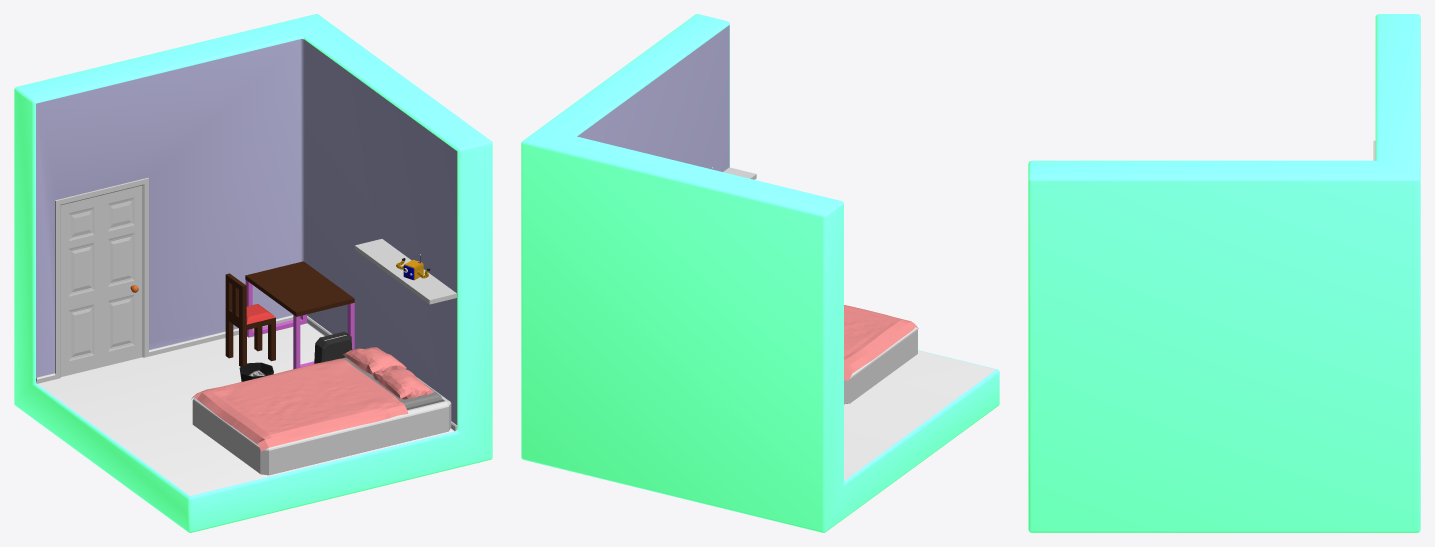
Rendered from CozyRoom_7.glb.
3 renders of one model, left to right at view 1: azimuth 30°, elevation 25°; view 2: azimuth 150°, elevation 25°; view 3: azimuth 270°, elevation 25°, orthographic. The views are drawn at different scales.
Parts seen in each view (by area): view 1: Cube.026, Cube.004, Plane, Cube.002, Cube.019, Cube.023, Cube.008, Cube.007, Plane.001, Cube.005, Plane.083, Cube.011 (+2 smaller); view 2: Cube.026, Plane, Cube.002; view 3: Cube.026.
Boxes of the visible parts, box(x1,y1,x2,y2) form: Cube.026: box(14, 14, 492, 532); Cube.004: box(61, 185, 142, 376); Plane: box(191, 358, 408, 451); Cube.002: box(192, 357, 451, 475); Cube.019: box(245, 261, 354, 369); Cube.023: box(225, 273, 275, 366); Cube.008: box(354, 239, 456, 304); Cube.007: box(142, 178, 148, 357); Plane.001: box(372, 369, 433, 399); Cube.005: box(55, 199, 60, 379); Plane.083: box(343, 347, 406, 374); Cube.011: box(314, 331, 352, 363); Cube.026: box(521, 14, 999, 532); Plane: box(844, 305, 918, 381); Cube.002: box(844, 327, 917, 404); Cube.026: box(1028, 14, 1420, 532).
Bounding box in the file's own units: 2.26 × 2.26 × 2.26.
